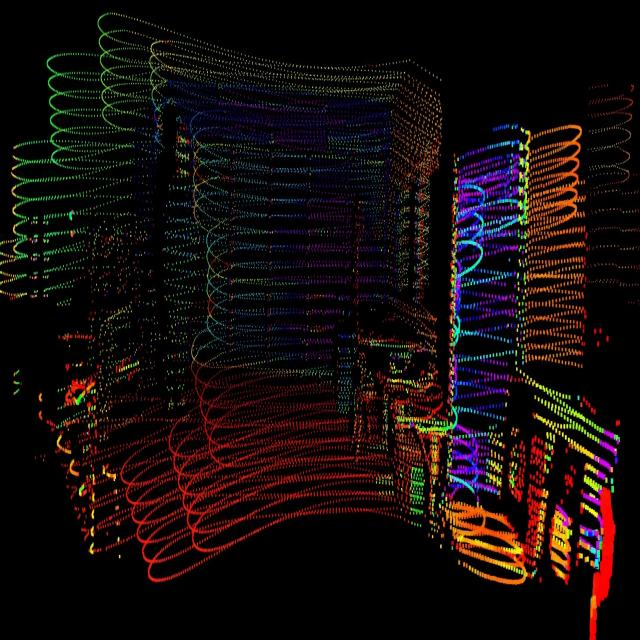human: (154, 108, 210, 434)
